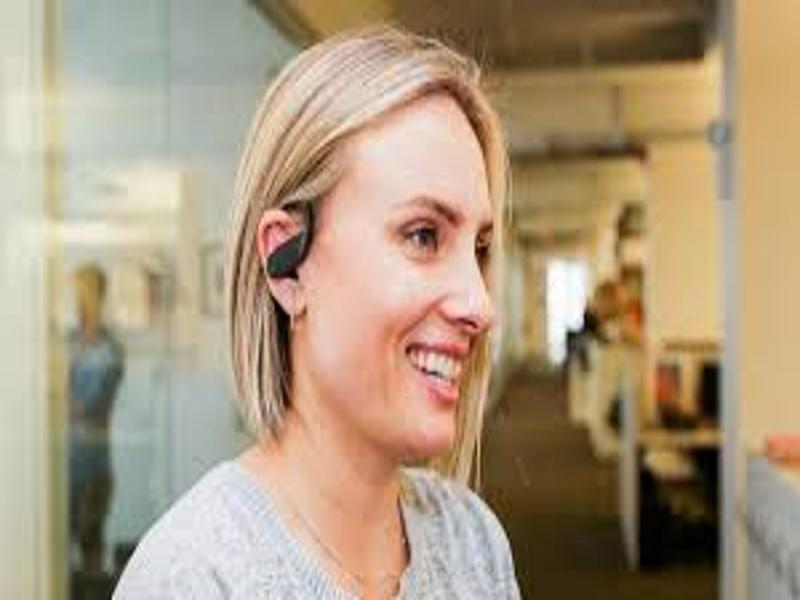headphone: (259, 229, 318, 278)
